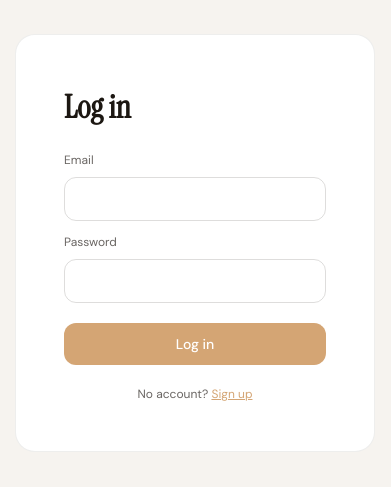
Test: Login page › shows an error message when login fails
Type "a@example.com" into the field labelled "Email" at {"x": 195, "y": 199}, box [64, 177, 326, 221]
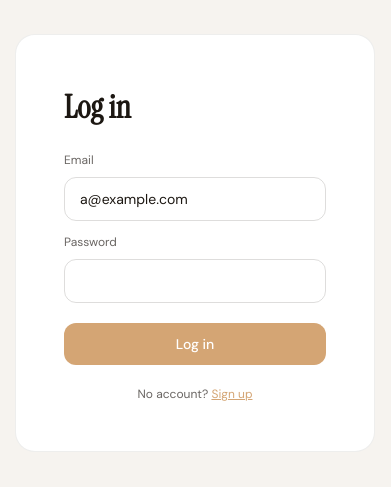
Type "wrongpass" into the password field labelled "Password" at {"x": 195, "y": 281}, box [64, 259, 326, 303]
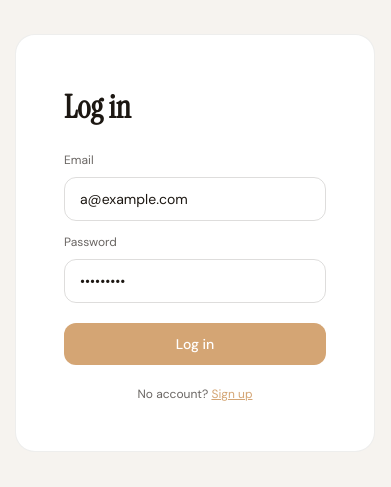
Click the button "Log in" at {"x": 195, "y": 344}, box [64, 323, 326, 365]
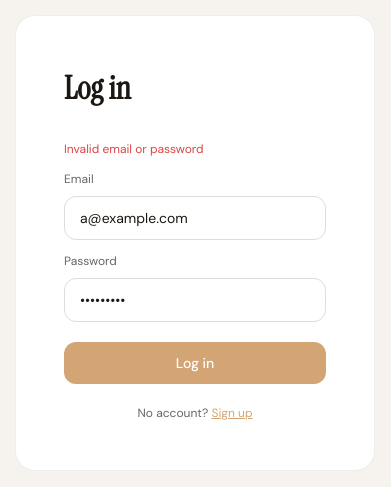
Expected: the text "Invalid email or password" is shown, [64, 141, 204, 157]
